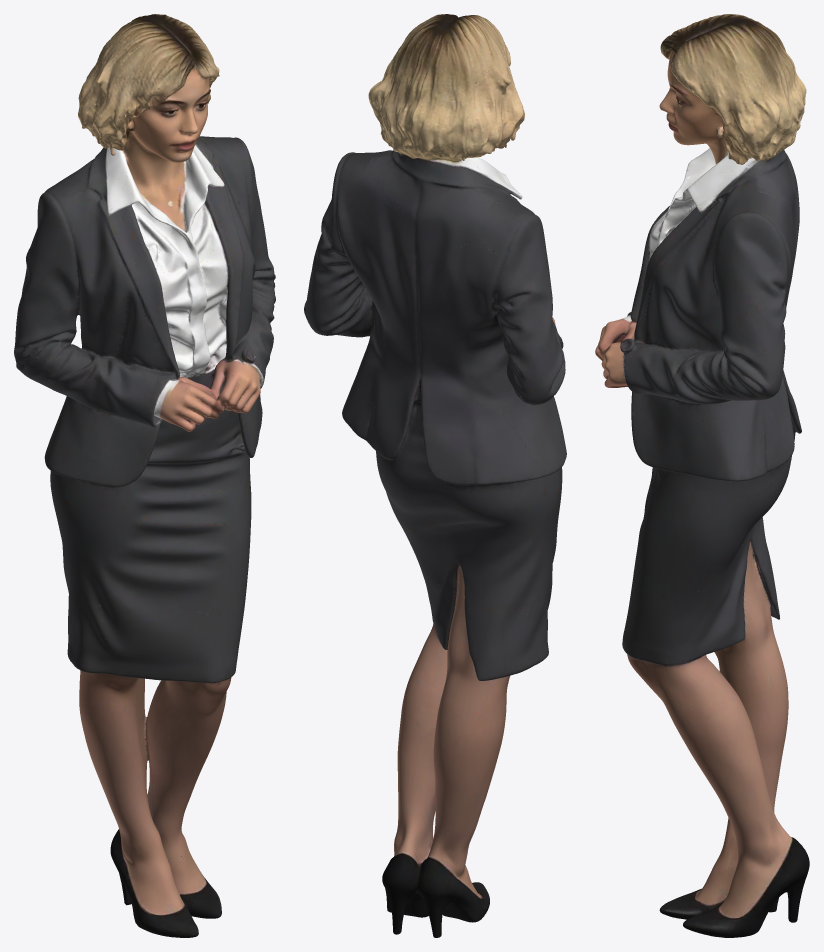
Rendered from executive_in_a_gray_suit.glb.
The picture shows the model from 3 angles, left to right: view 1: azimuth 30°, elevation 25°; view 2: azimuth 150°, elevation 25°; view 3: azimuth 270°, elevation 25°; orthographic projection.
Visible parts, largest first — view 1: Object_6, Object_7, Object_5; view 2: Object_5, Object_6; view 3: Object_5, Object_6, Object_7.
Boxes of the visible parts, <box> form: Object_6: <box>15,17,275,937</box>; Object_7: <box>95,64,268,717</box>; Object_5: <box>14,14,275,934</box>; Object_5: <box>304,19,566,936</box>; Object_6: <box>304,14,564,937</box>; Object_5: <box>595,14,805,937</box>; Object_6: <box>634,15,809,931</box>; Object_7: <box>601,208,685,708</box>.
Bounding box in the file's own units: 0.5646 × 1.9 × 0.4123.
1 material, 1 textured.
